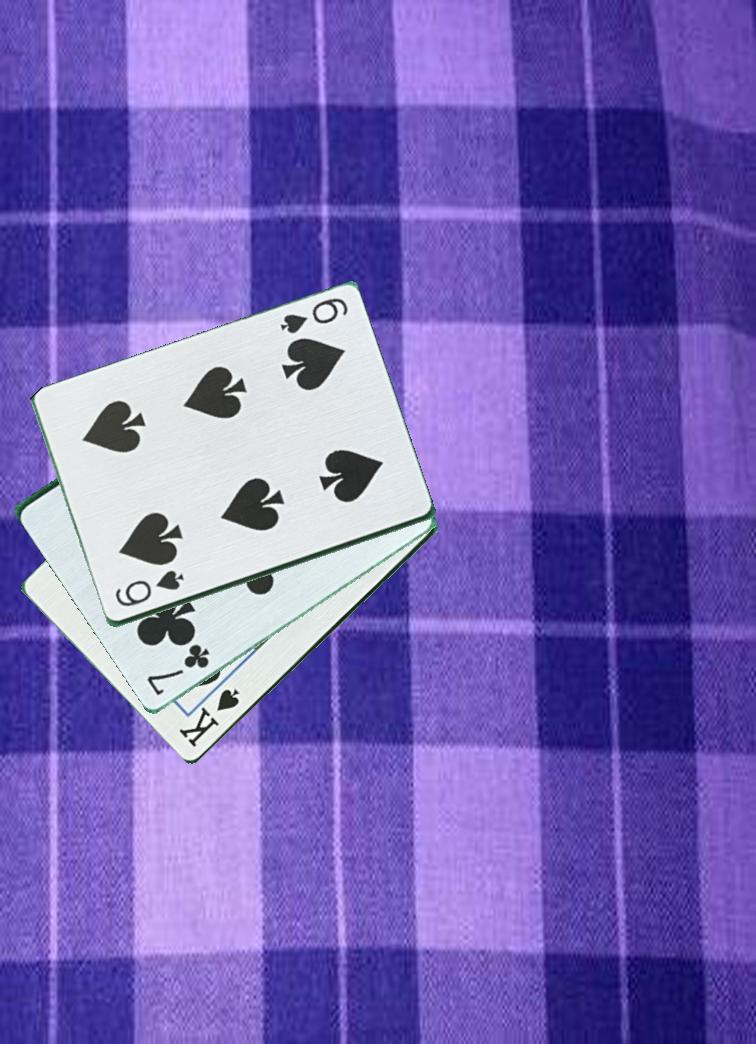6s: (273, 294, 351, 338), (111, 568, 187, 610)
7c: (143, 635, 213, 699)
ks: (175, 685, 243, 751)
